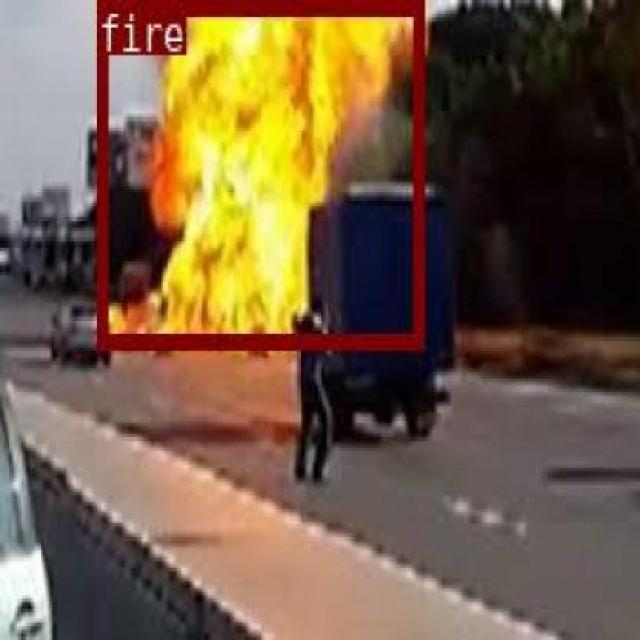Fire: (94, 0, 423, 348)
